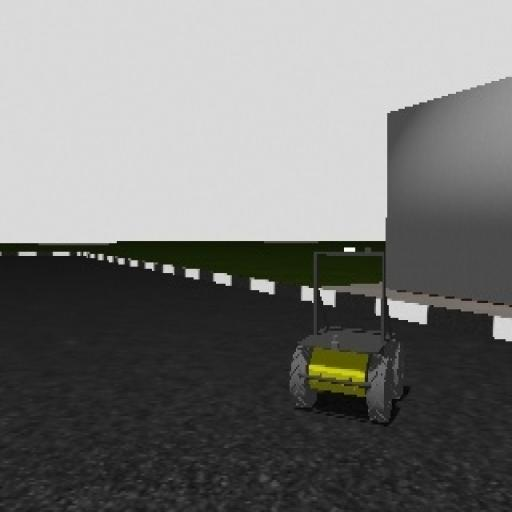huskya200: (284, 238, 408, 432)
